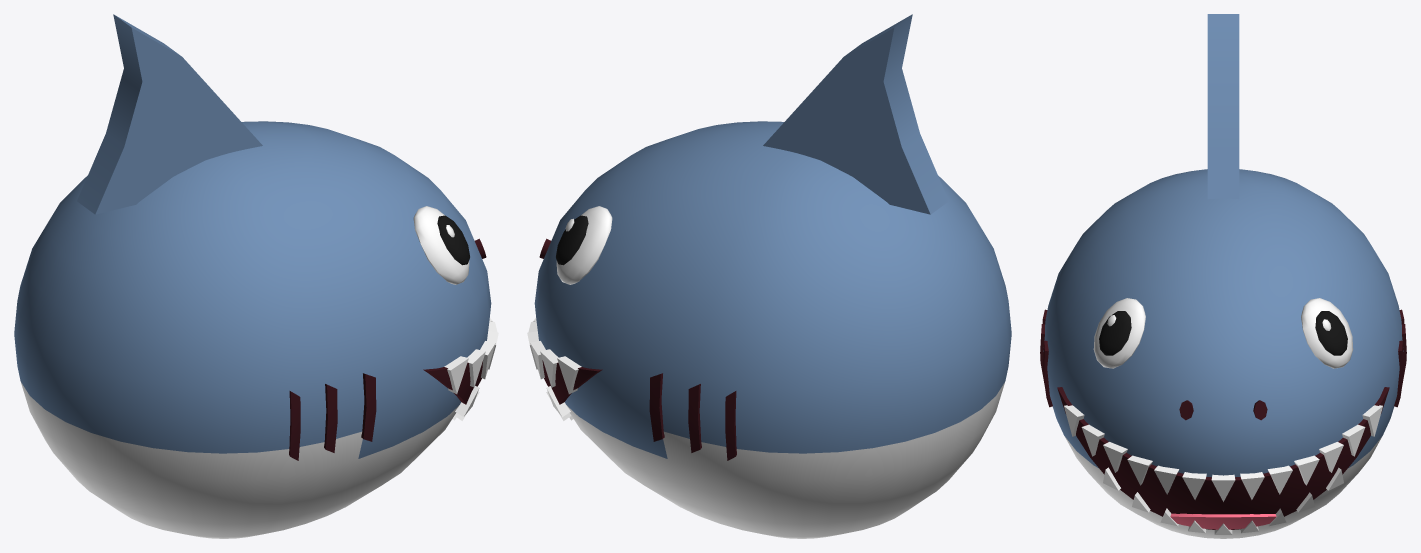
File: acc_myth_shark.glb
The picture shows the model from 3 angles, left to right: view 1: azimuth 30°, elevation 25°; view 2: azimuth 150°, elevation 25°; view 3: azimuth 270°, elevation 25°; orthographic projection. The views are drawn at different scales.
Parts seen in each view (by area): view 1: SharkHead; view 2: SharkHead; view 3: SharkHead.
Part boxes in pixels (bbox=[...]): SharkHead: bbox=[14, 14, 498, 538]; SharkHead: bbox=[527, 14, 1011, 538]; SharkHead: bbox=[1040, 14, 1406, 538].
Size of the model in its own units: 0.5959 by 0.683 by 0.5077.
